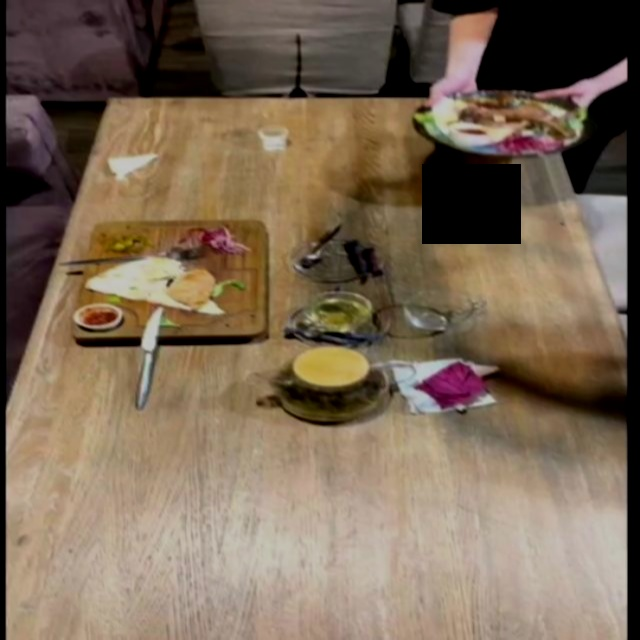meat: (76, 216, 265, 343), (412, 90, 585, 156)
tea: (241, 339, 408, 425)
